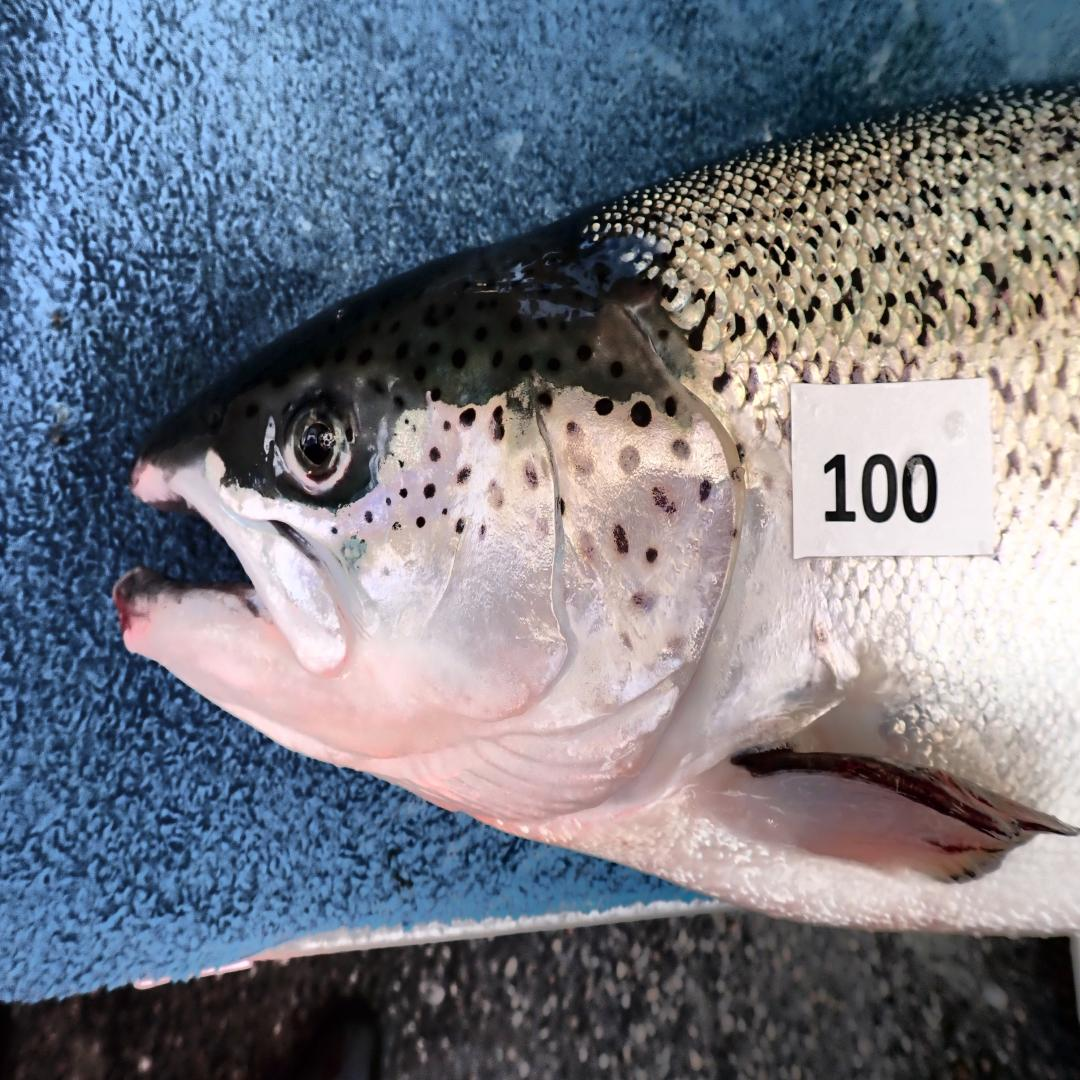spot: (557, 422, 595, 475), (652, 487, 679, 520), (576, 529, 595, 560), (618, 444, 639, 472), (489, 405, 504, 442), (631, 402, 652, 428), (487, 481, 504, 509), (631, 591, 656, 610), (614, 523, 629, 554), (698, 475, 713, 503), (525, 458, 538, 489), (595, 397, 614, 416), (460, 408, 477, 428), (673, 439, 690, 458), (475, 520, 489, 543), (664, 397, 677, 416), (456, 467, 470, 484), (538, 394, 553, 408), (536, 518, 548, 534), (645, 548, 658, 562), (424, 484, 437, 498), (557, 498, 565, 518), (430, 447, 441, 461), (416, 515, 426, 529), (430, 388, 440, 401), (456, 518, 464, 534), (401, 413, 411, 425), (365, 512, 373, 523), (399, 487, 407, 498), (392, 520, 401, 529), (399, 458, 405, 470), (386, 498, 394, 506), (443, 422, 451, 430), (331, 526, 338, 534), (441, 506, 447, 515)
